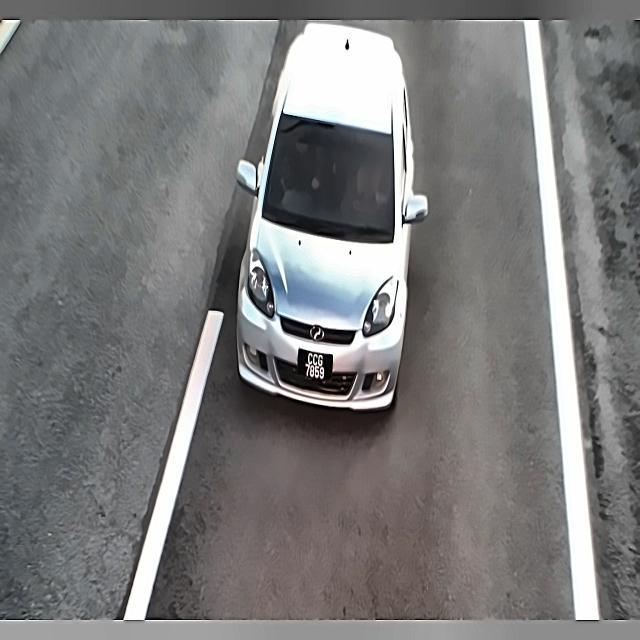car: (292, 346, 335, 391)
